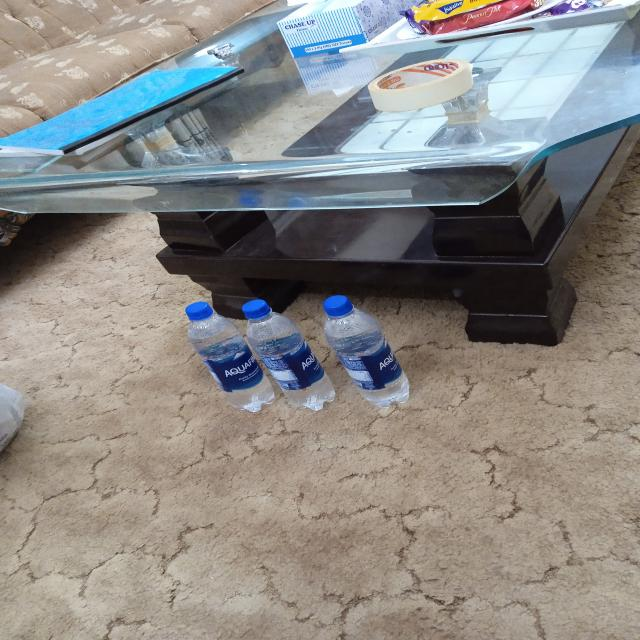Plastic: (250, 304, 330, 418), (336, 302, 411, 418), (183, 302, 248, 418)
